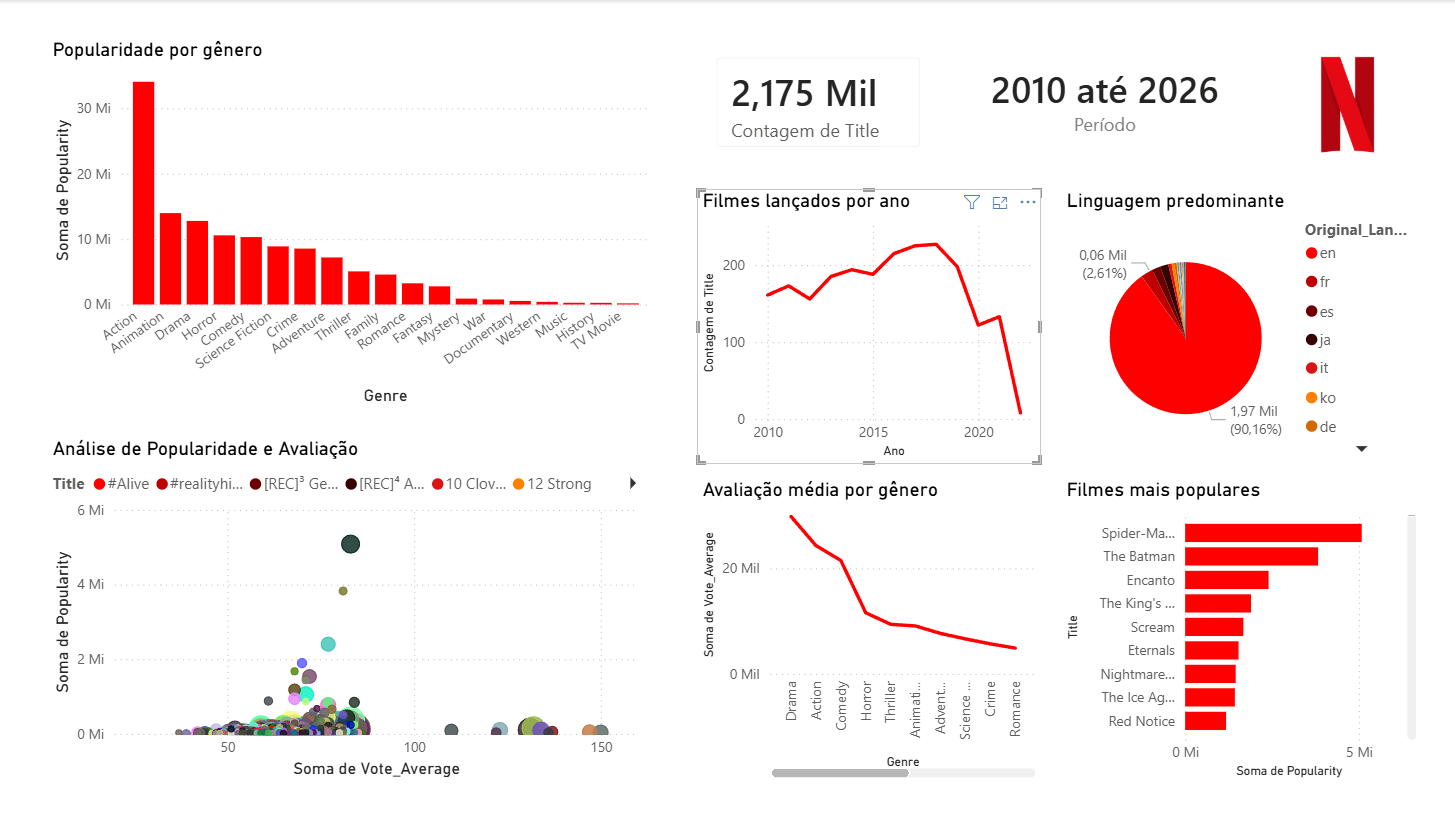

The page's visual inventory and layout, read from the dashboard file:
{"tool":"powerbi","page":{"name":"Página 1","canvas":[1280,720],"ordinal":0},"visuals":[{"type":"lineChart","title":"Filmes lançados por ano","fields":{"Category":["mymoviedb (1).Release_Date.Variation.Hierarquia de datas.Ano"],"Y":["CountNonNull(mymoviedb (1).Title)"]},"box":[612,166,302,241],"z":0},{"type":"clusteredColumnChart","title":"Popularidade por gênero","fields":{"Y":["Sum(mymoviedb (1).Popularity)"],"Category":["mymoviedb (1).Genre"]},"box":[41,33,534,327],"z":1000},{"type":"clusteredBarChart","title":"Filmes mais populares","fields":{"Category":["mymoviedb (1).Title"],"Y":["Sum(mymoviedb (1).Popularity)"]},"box":[932,420,317,268],"z":2000},{"type":"lineChart","title":"Avaliação média por gênero","fields":{"Category":["mymoviedb (1).Genre"],"Y":["Sum(mymoviedb (1).Vote_Average)"]},"box":[612,420,302,268],"z":3000},{"type":"pieChart","title":"Linguagem predominante","fields":{"Category":["mymoviedb (1).Original_Language"],"Y":["CountNonNull(mymoviedb (1).Title)"]},"box":[932,166,317,241],"z":4000},{"type":"scatterChart","title":"Análise de Popularidade e Avaliação","fields":{"X":["Sum(mymoviedb (1).Vote_Average)"],"Y":["Sum(mymoviedb (1).Popularity)"],"Series":["mymoviedb (1).Title"],"Size":["Sum(mymoviedb (1).Vote_Count)"]},"box":[41,384,534,304],"z":5000},{"type":"cardVisual","fields":{"Data":["Count(mymoviedb (1).Title)"]},"box":[612,33,213,113],"z":5001},{"type":"textbox","box":[834,33,272,113],"z":5002},{"type":"image","box":[1118,33,131,117],"z":5003}]}

Visuals, with their boxes in screenshot pixels (x1, y1, x2, y2), scaled from the page's 1280x720 canvas onto the 1455x813 screenshot:
"Filmes lançados por ano" lineChart: (696,187,1039,460)
"Popularidade por gênero" clusteredColumnChart: (47,37,654,406)
"Filmes mais populares" clusteredBarChart: (1059,474,1420,777)
"Avaliação média por gênero" lineChart: (696,474,1039,777)
"Linguagem predominante" pieChart: (1059,187,1420,460)
"Análise de Popularidade e Avaliação" scatterChart: (47,434,654,777)
cardVisual - Count(mymoviedb (1).Title): (696,37,938,165)
textbox: (948,37,1257,165)
image: (1271,37,1420,169)
